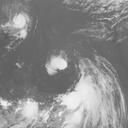cyclone: (75, 54, 115, 99), (3, 11, 34, 40), (45, 50, 69, 77)
